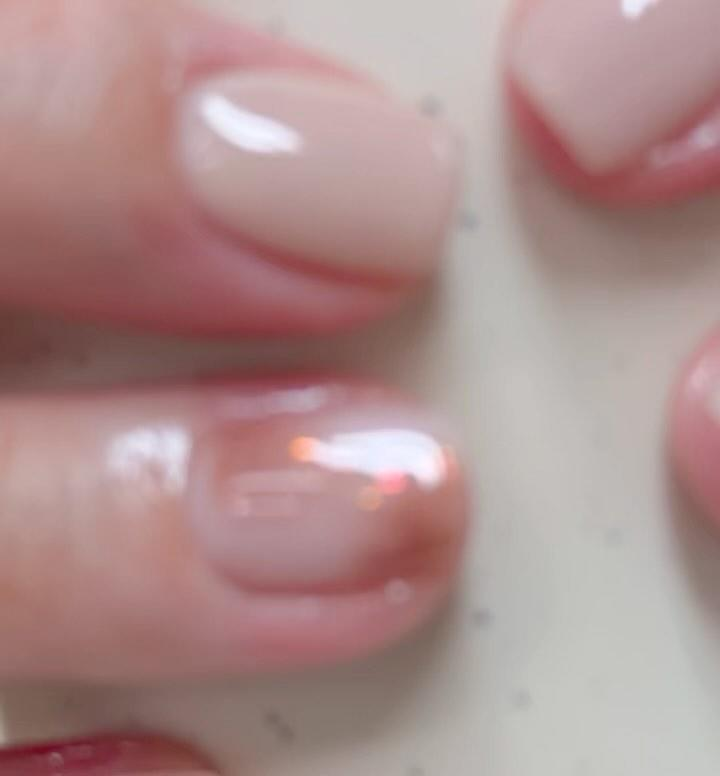nail: (180, 72, 454, 277), (184, 403, 468, 592), (495, 0, 719, 208)
